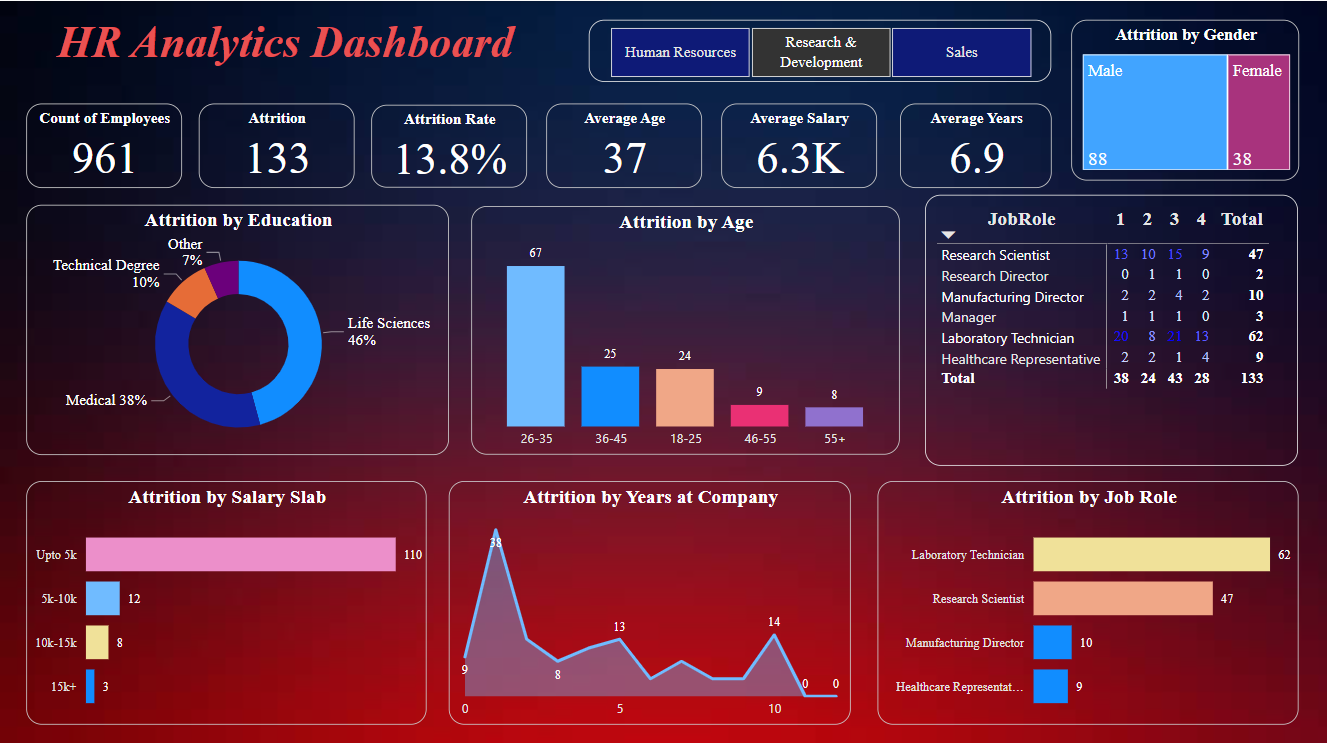

This screenshot's page, from the dashboard's own definition file:
{"tool":"powerbi","page":{"name":"Page 1","canvas":[1280,720],"ordinal":0},"visuals":[{"type":"card","title":"Count of Employees","fields":{"Values":["CountNonNull(HR_Analytics.EmpID)"]},"box":[25,98.3,150,81.7],"z":0},{"type":"card","title":"Attrition","fields":{"Values":["Sum(HR_Analytics.AttritionCount)"]},"box":[191.7,98.3,150,81.7],"z":1000},{"type":"card","title":"Attrition Rate","fields":{"Values":["HR_Analytics.AttritionRate"]},"box":[358.3,100,150,80],"z":2000},{"type":"card","title":"Average Age","fields":{"Values":["Avg(HR_Analytics.Age)"]},"box":[526.7,98.3,150,81.7],"z":3000},{"type":"card","title":"Average Salary","fields":{"Values":["Avg(HR_Analytics.MonthlyIncome)"]},"box":[696.7,98.3,150,81.7],"z":4000},{"type":"card","title":"Average Years","fields":{"Values":["Avg(HR_Analytics.YearsAtCompany)"]},"box":[868.3,98.3,146.7,81.7],"z":5000},{"type":"donutChart","title":"Attrition by Education","fields":{"Category":["HR_Analytics.EducationField"],"Y":["CountNonNull(HR_Analytics.Attrition)"]},"box":[25,196.7,408.3,241.7],"z":6000},{"type":"columnChart","title":"Attrition by Age","fields":{"Category":["HR_Analytics.AgeGroup"],"Y":["Sum(HR_Analytics.AttritionCount)"]},"box":[455,198.3,413.3,240],"z":7000},{"type":"pivotTable","fields":{"Rows":["HR_Analytics.JobRole"],"Columns":["HR_Analytics.JobSatisfaction"],"Values":["Sum(HR_Analytics.AttritionCount)"]},"box":[893.3,186.7,360,261.7],"z":8000},{"type":"barChart","title":"Attrition by Salary Slab","fields":{"Category":["HR_Analytics.SalarySlab"],"Y":["Sum(HR_Analytics.AttritionCount)"]},"box":[25,463.3,386.7,235],"z":9000},{"type":"barChart","title":"Attrition by Job Role","fields":{"Y":["Sum(HR_Analytics.AttritionCount)"],"Category":["HR_Analytics.JobRole"]},"box":[846.7,463.3,406.7,235],"z":10000},{"type":"areaChart","title":"Attrition by Years at Company","fields":{"Category":["HR_Analytics.YearsAtCompany"],"Y":["Sum(HR_Analytics.AttritionCount)"]},"box":[433.3,463.3,388.3,235],"z":11000},{"type":"treemap","title":"Attrition by Gender","fields":{"Group":["HR_Analytics.Gender"],"Values":["Sum(HR_Analytics.AttritionCount)"]},"box":[1033.3,18.3,220,155],"z":12000},{"type":"slicer","fields":{"Values":["HR_Analytics.Department"]},"box":[568.3,18.3,446.7,60],"z":13000},{"type":"textbox","box":[0,8.3,550,78.3],"z":14000}]}

Visuals, with their boxes in screenshot pixels (x1, y1, x2, y2), scaled from the page's 1280x720 canvas onto the 1327x743 screenshot:
"Count of Employees" card: {"left": 26, "top": 101, "right": 181, "bottom": 186}
"Attrition" card: {"left": 199, "top": 101, "right": 354, "bottom": 186}
"Attrition Rate" card: {"left": 371, "top": 103, "right": 527, "bottom": 186}
"Average Age" card: {"left": 546, "top": 101, "right": 702, "bottom": 186}
"Average Salary" card: {"left": 722, "top": 101, "right": 878, "bottom": 186}
"Average Years" card: {"left": 900, "top": 101, "right": 1052, "bottom": 186}
"Attrition by Education" donutChart: {"left": 26, "top": 203, "right": 449, "bottom": 452}
"Attrition by Age" columnChart: {"left": 472, "top": 205, "right": 900, "bottom": 452}
pivotTable - HR_Analytics.JobRole x HR_Analytics.JobSatisfaction: {"left": 926, "top": 193, "right": 1299, "bottom": 463}
"Attrition by Salary Slab" barChart: {"left": 26, "top": 478, "right": 427, "bottom": 721}
"Attrition by Job Role" barChart: {"left": 878, "top": 478, "right": 1299, "bottom": 721}
"Attrition by Years at Company" areaChart: {"left": 449, "top": 478, "right": 852, "bottom": 721}
"Attrition by Gender" treemap: {"left": 1071, "top": 19, "right": 1299, "bottom": 179}
slicer - HR_Analytics.Department: {"left": 589, "top": 19, "right": 1052, "bottom": 81}
textbox: {"left": 0, "top": 9, "right": 570, "bottom": 89}
